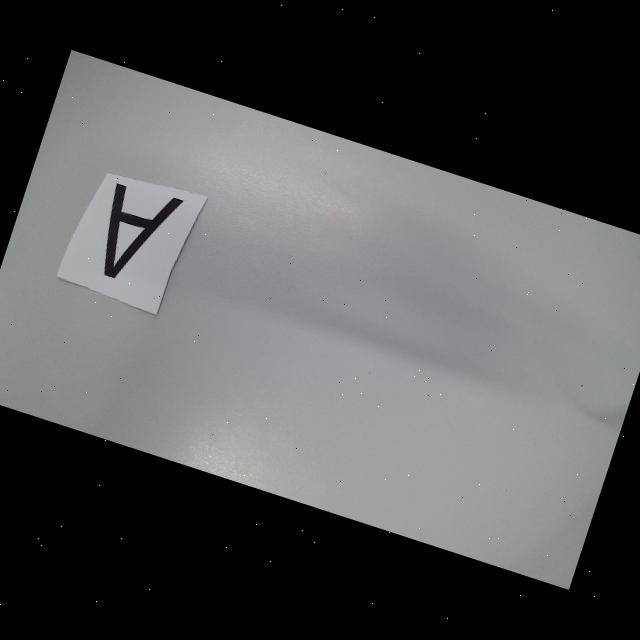FAKE: (89, 178, 184, 292)
